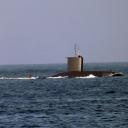submarine: (30, 43, 125, 79)
